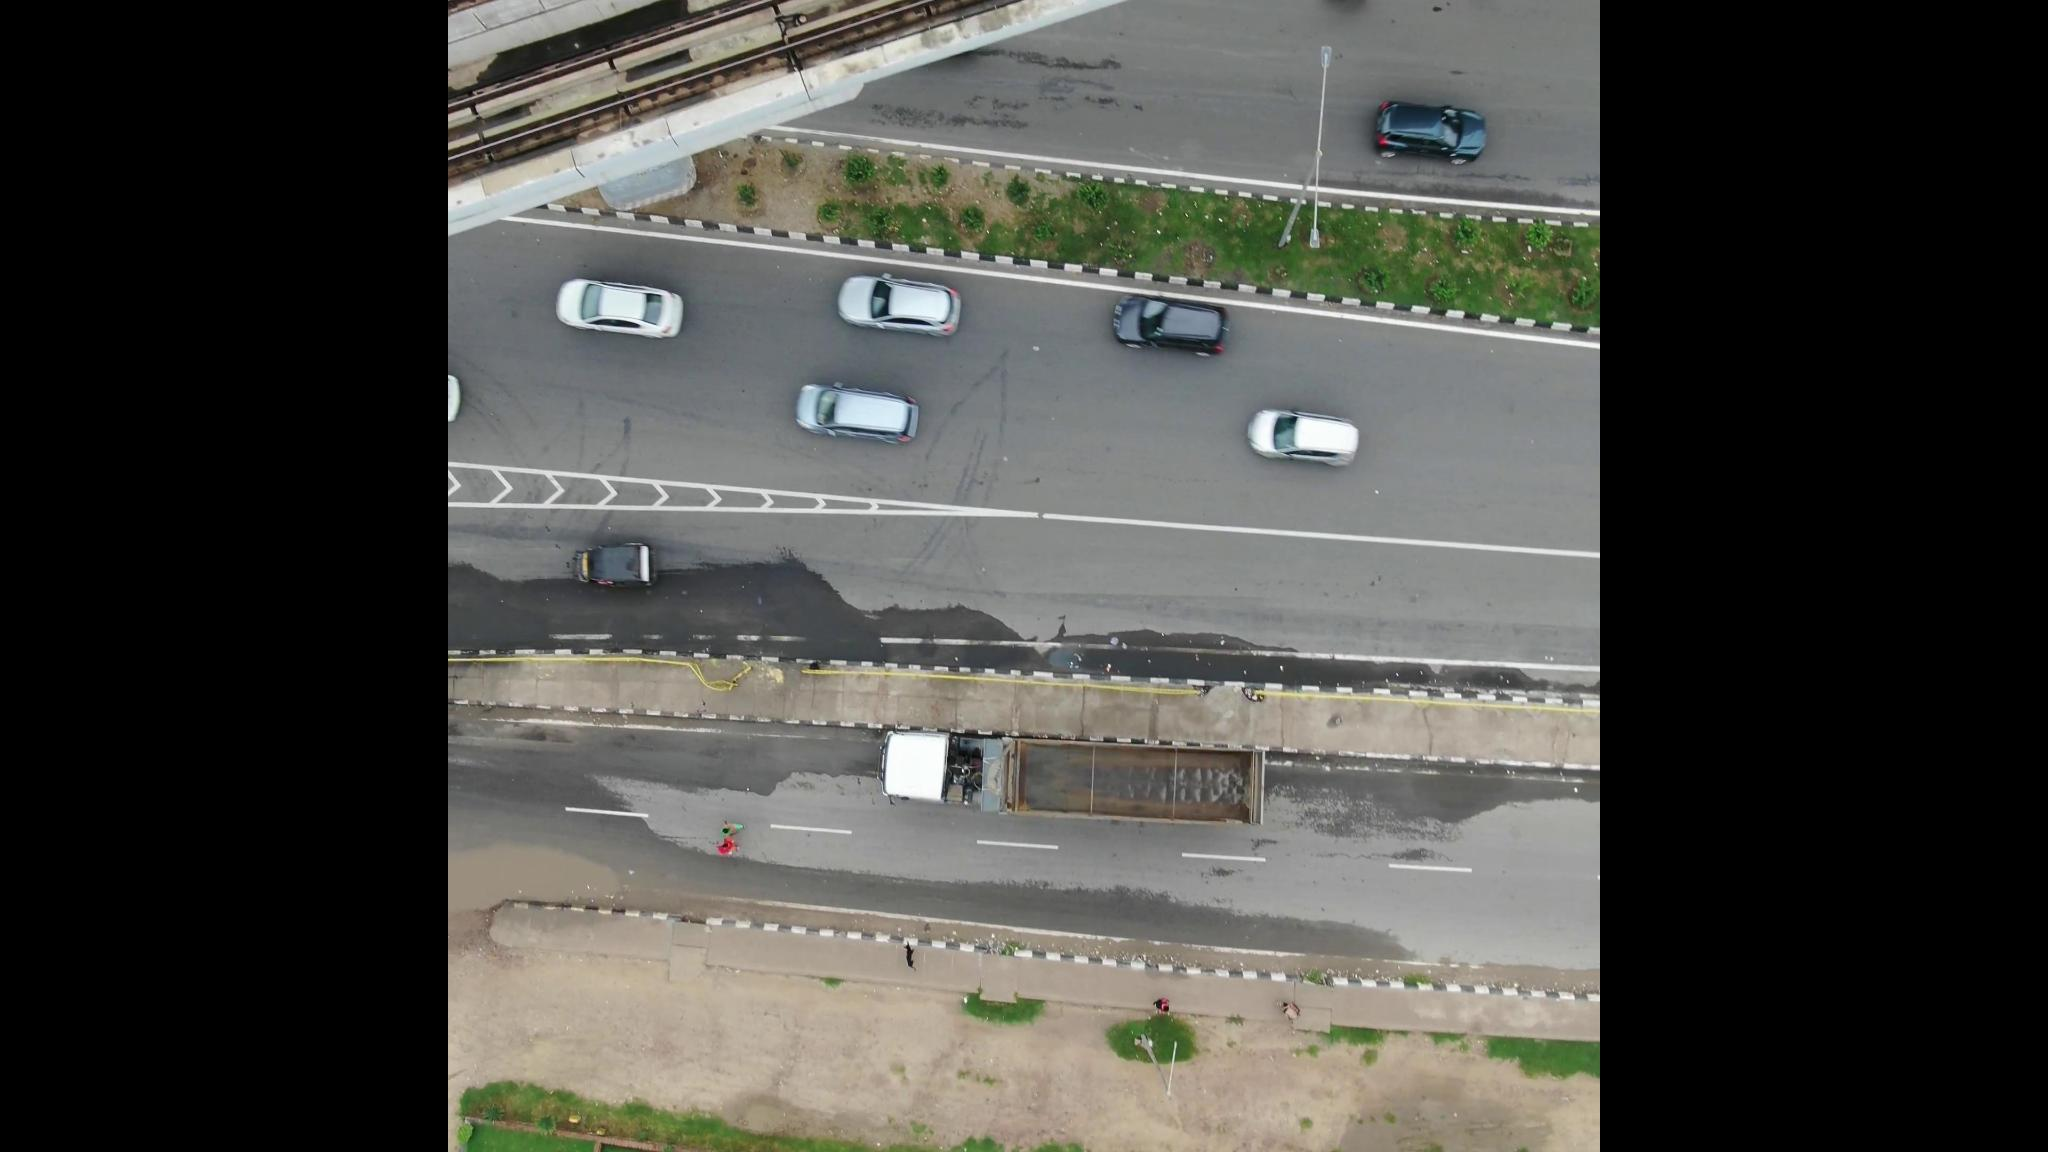Cracks: (1314, 840, 1471, 890)
Ravelling: (855, 23, 1144, 138), (1376, 160, 1598, 215)
